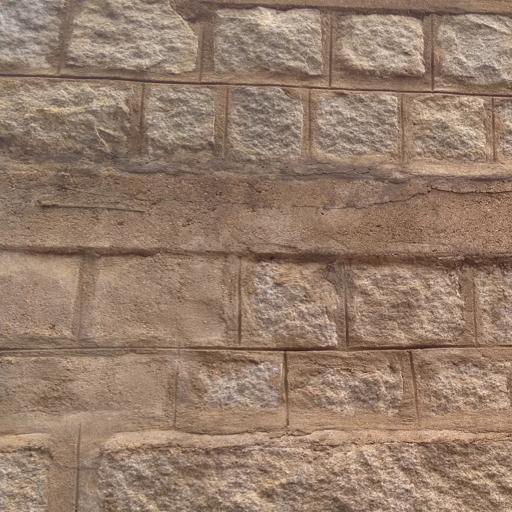minor_crack: (27, 170, 512, 246)
